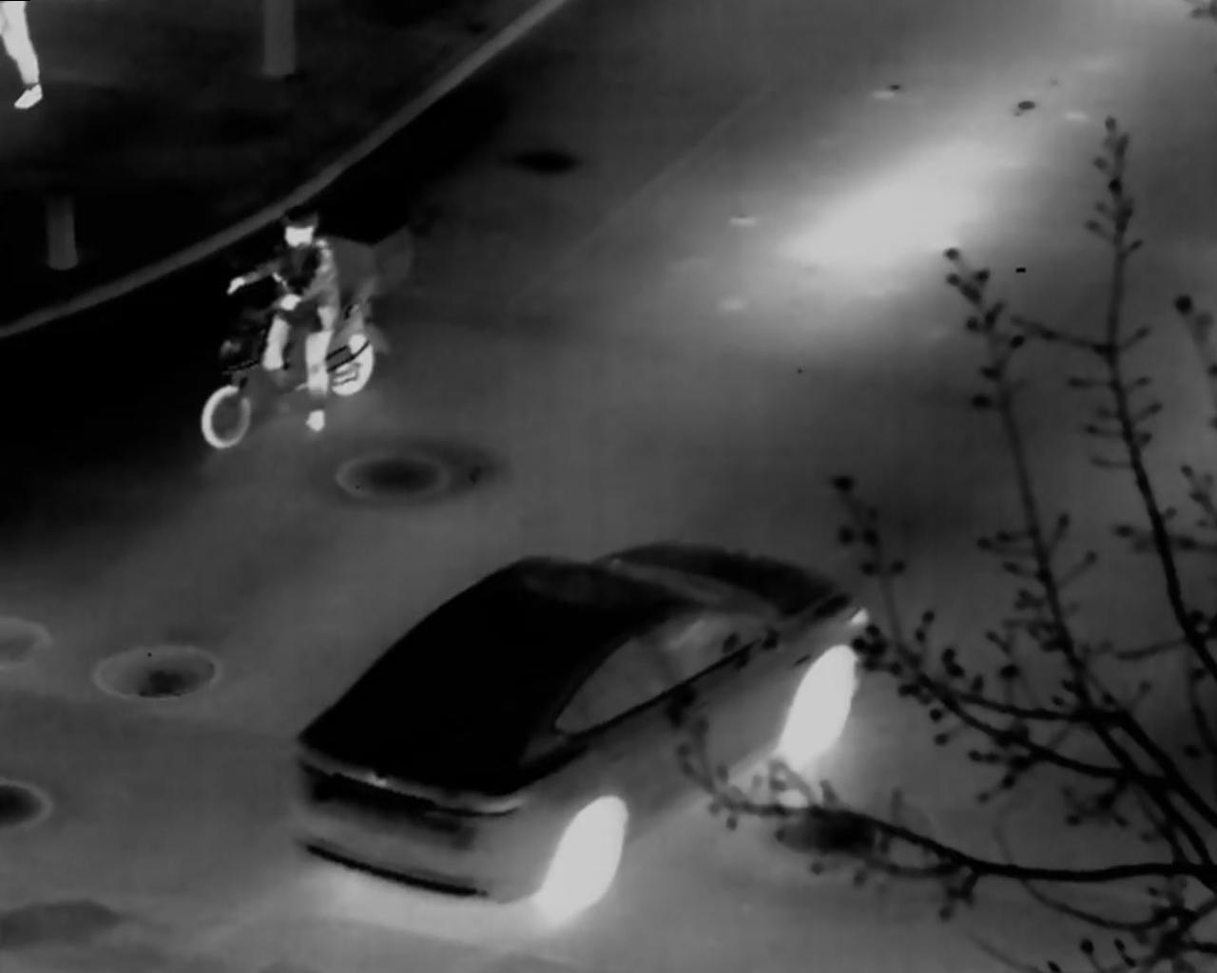person: (222, 203, 338, 434)
